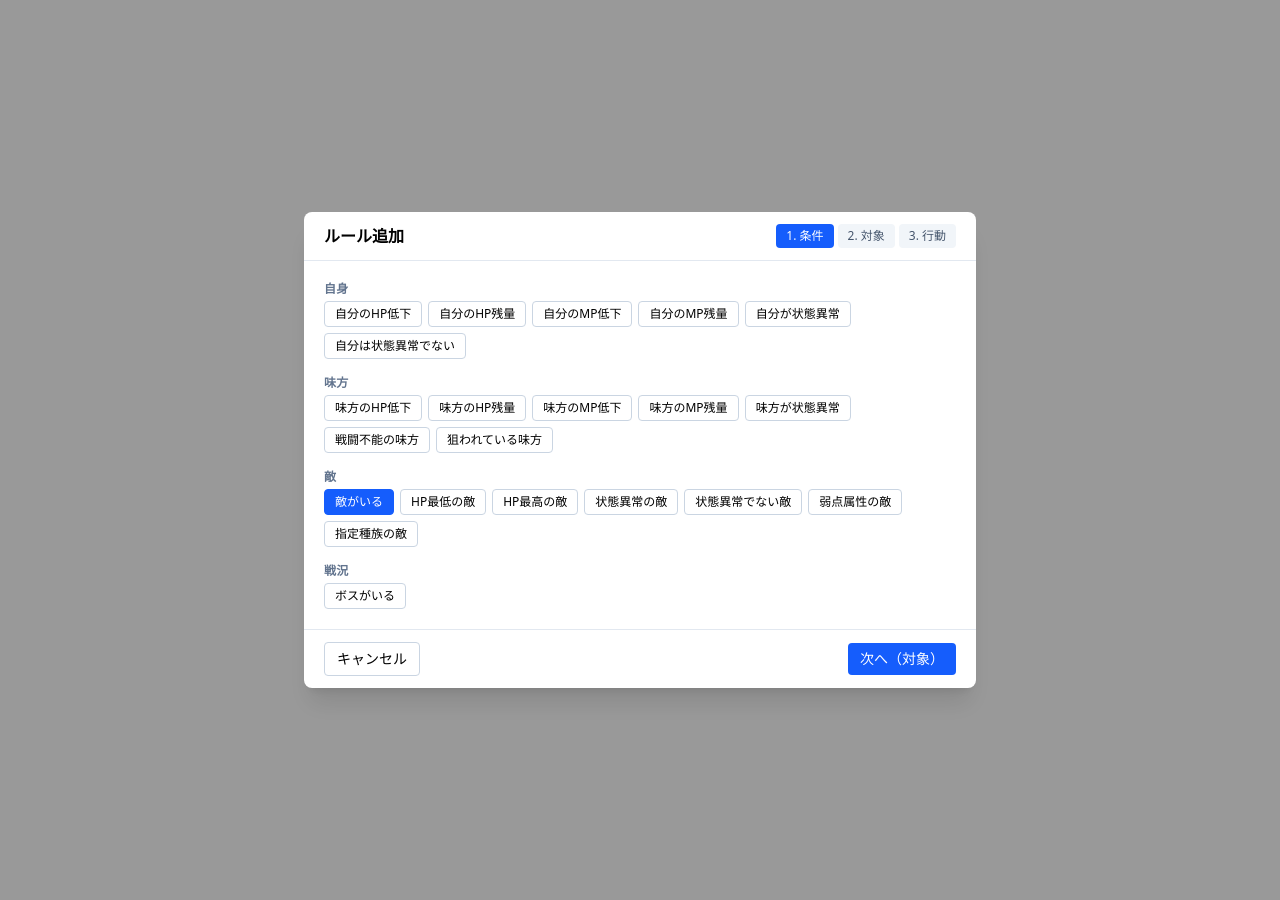
RulePicker - ステップ遷移 › Step 2 で「戻る」を押すと Step 1 へ
Click the button "次へ（対象）": (902, 659) [848,643,956,675]
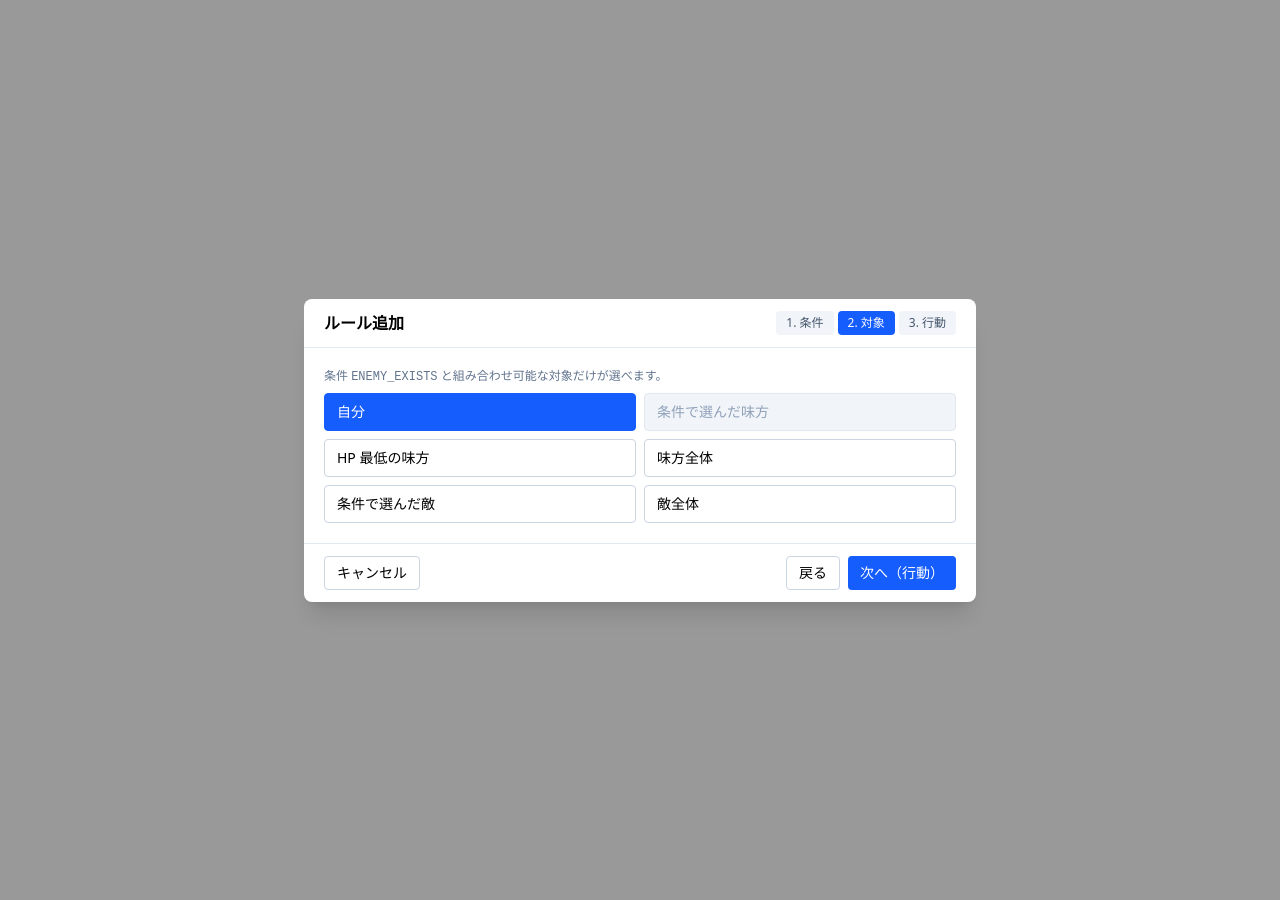
Click the button "戻る": (813, 572) [786,556,840,590]
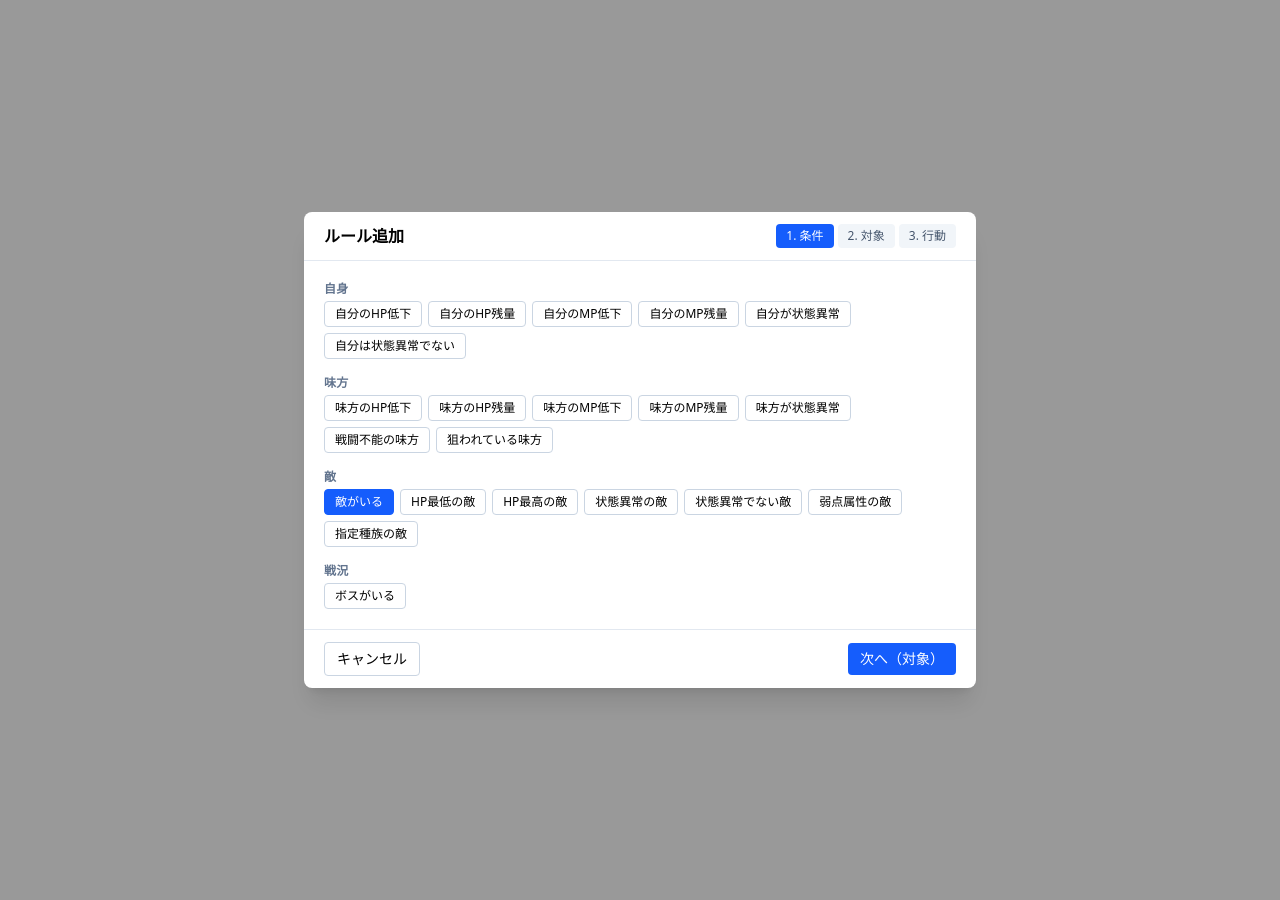
Expected: the heading "自身" is shown, [324,280,349,297]
